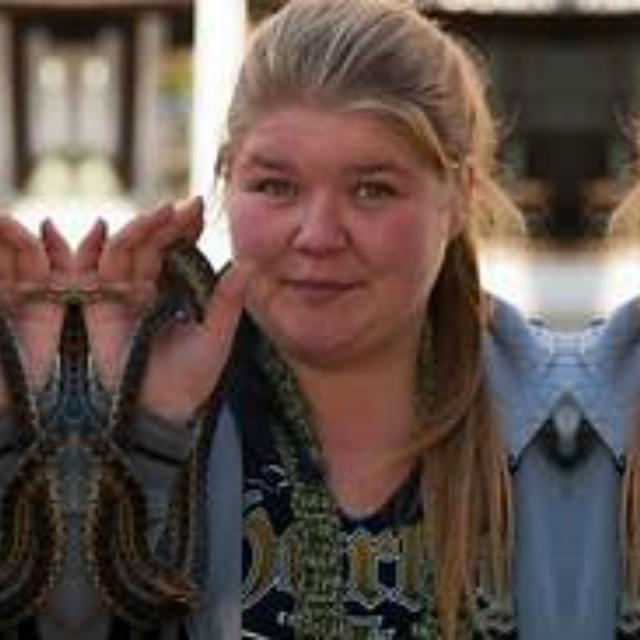person: (74, 0, 556, 630), (0, 0, 72, 630), (576, 0, 640, 630)
